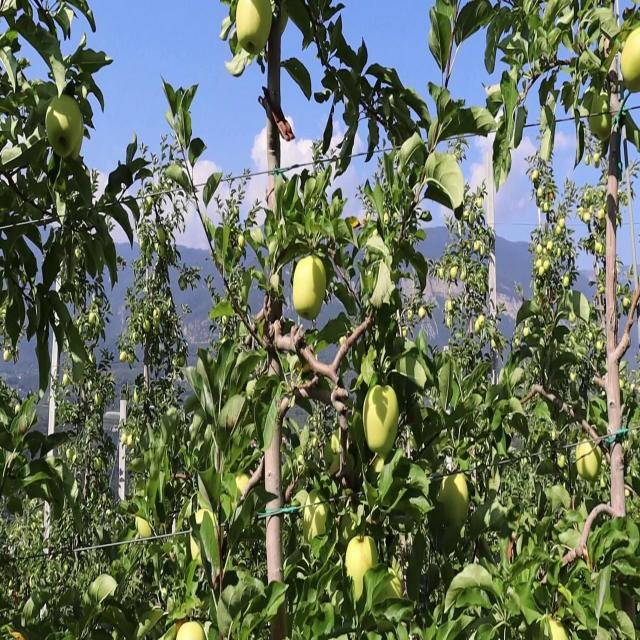apple: (364, 383, 400, 453), (48, 92, 84, 160), (296, 255, 328, 322), (236, 0, 272, 55), (440, 469, 470, 519), (348, 533, 375, 576), (620, 35, 640, 92), (228, 35, 247, 78), (356, 533, 376, 572), (592, 113, 612, 142), (232, 28, 245, 71), (580, 455, 600, 482), (176, 618, 200, 639), (316, 504, 329, 539), (584, 455, 600, 482), (372, 455, 387, 482), (552, 618, 568, 639), (576, 440, 591, 460), (140, 519, 152, 540), (576, 462, 584, 478), (96, 391, 104, 407), (536, 263, 545, 277), (128, 433, 136, 448), (120, 348, 128, 363), (128, 355, 136, 368), (548, 241, 555, 254), (584, 213, 592, 224), (124, 433, 131, 444), (580, 206, 585, 220), (544, 263, 551, 272), (64, 376, 71, 384)
